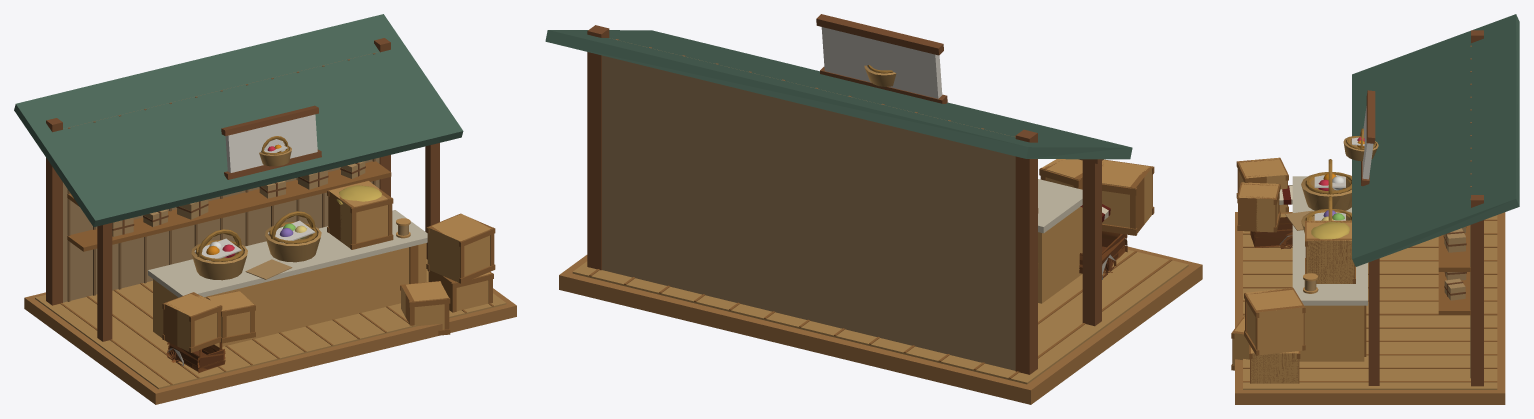
File: packing.glb
3 renders of one model, left to right at view 1: azimuth 30°, elevation 25°; view 2: azimuth 150°, elevation 25°; view 3: azimuth 270°, elevation 25°, orthographic. The views are drawn at different scales.
Parts seen in each view (by area): view 1: building-packing, building-packing-far; view 2: building-packing; view 3: building-packing, building-packing-far.
Part boxes in pixels (x1,y1,x2,y2): building-packing: (14, 14, 516, 404); building-packing-far: (194, 138, 356, 276); building-packing: (545, 14, 1202, 404); building-packing: (1231, 14, 1519, 404); building-packing-far: (1305, 134, 1373, 231).
Bounding box in the file's own units: 5.5 × 2.89 × 3.63.
